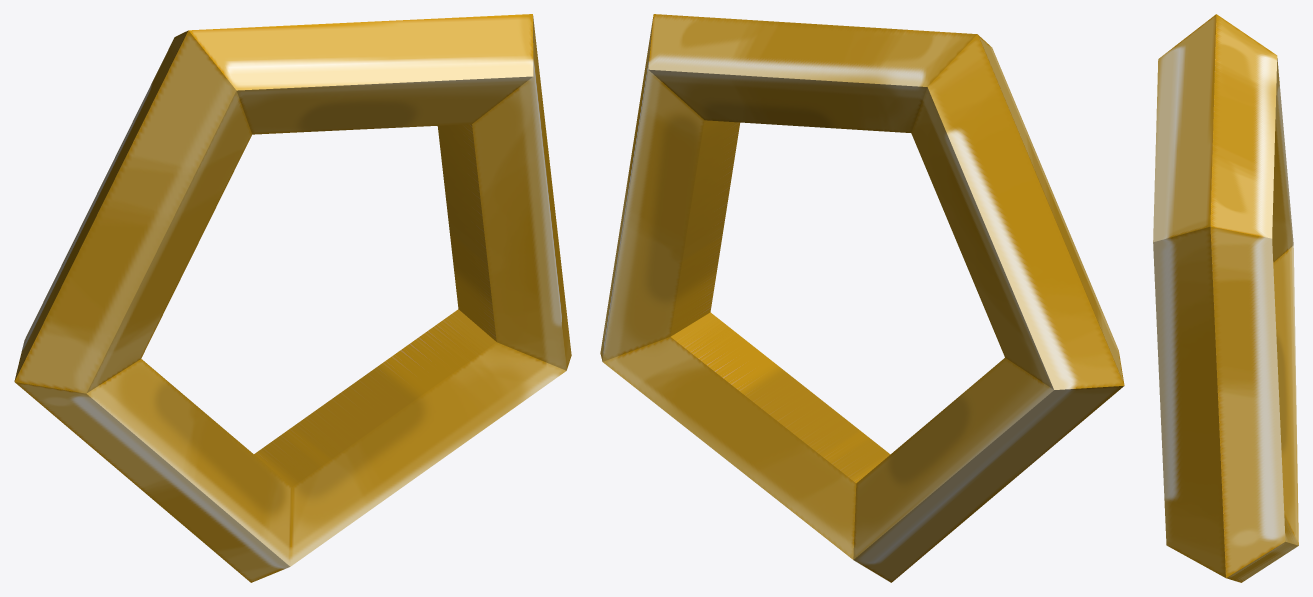
The model's file is Star.glb.
The picture shows the model from 3 angles, left to right: view 1: azimuth 30°, elevation 25°; view 2: azimuth 150°, elevation 25°; view 3: azimuth 270°, elevation 25°; orthographic projection. The views are drawn at different scales.
Parts seen in each view (by area): view 1: Torus.011; view 2: Torus.011; view 3: Torus.011.
Part boxes in pixels (x1,y1,x2,y2): Torus.011: (14, 14, 571, 582); Torus.011: (600, 14, 1124, 582); Torus.011: (1153, 14, 1298, 582).
Size of the model in its own units: 36.41 by 36.63 by 9.05.
Materials: 1 (1 with a texture image).
